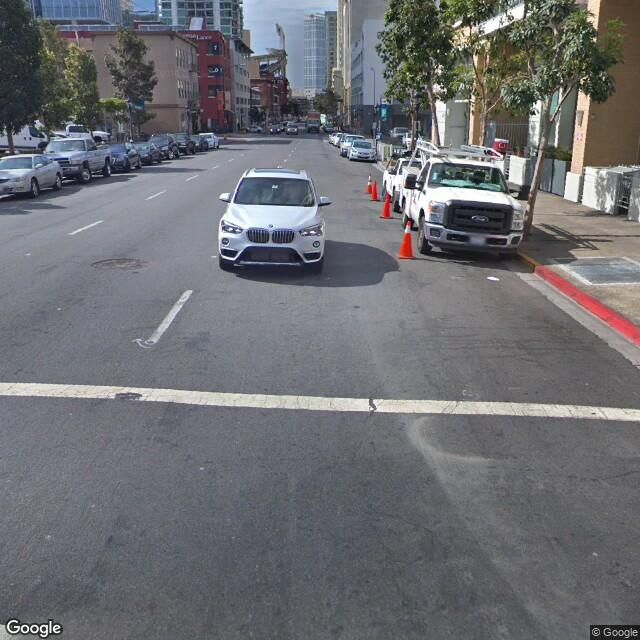road line: (119, 283, 199, 363), (63, 213, 103, 243)
